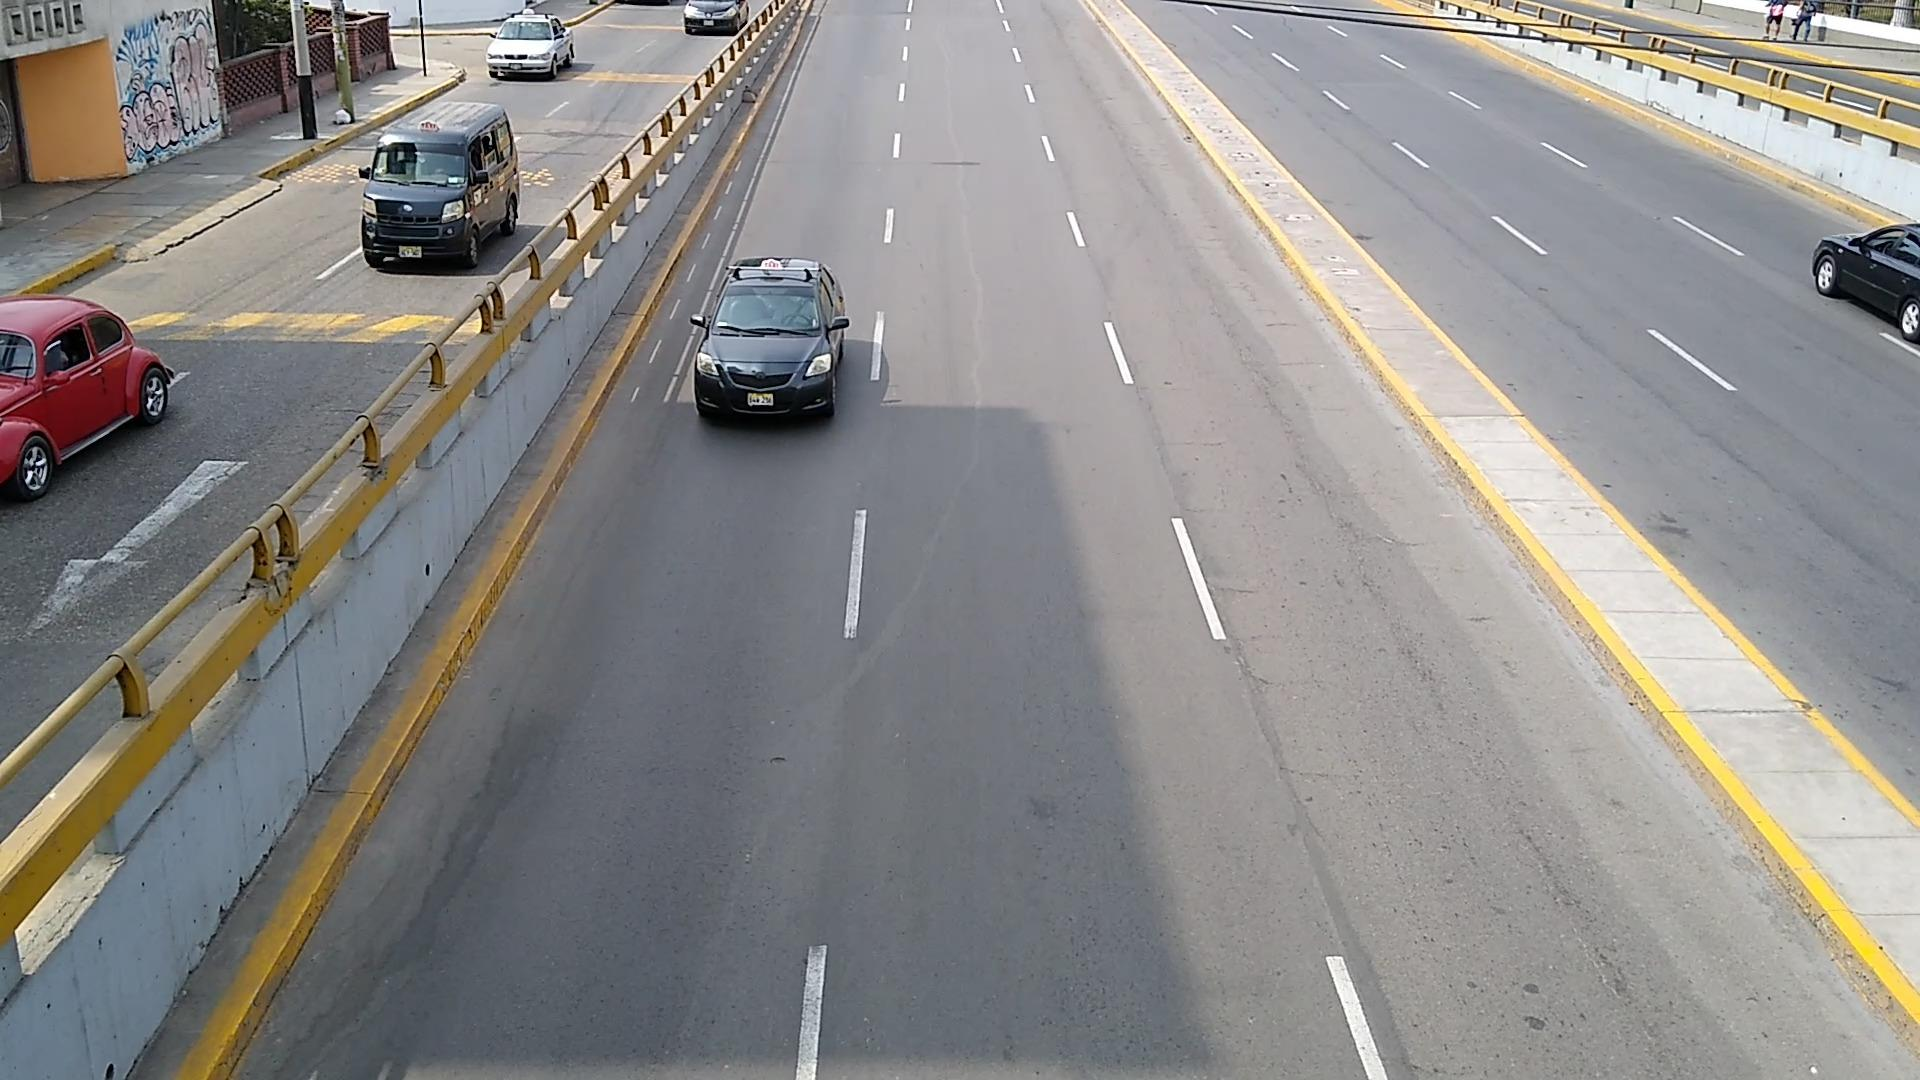car: (0, 297, 173, 498), (690, 255, 852, 417), (488, 12, 574, 79), (683, 0, 746, 34)
minivan: (360, 102, 521, 266)
